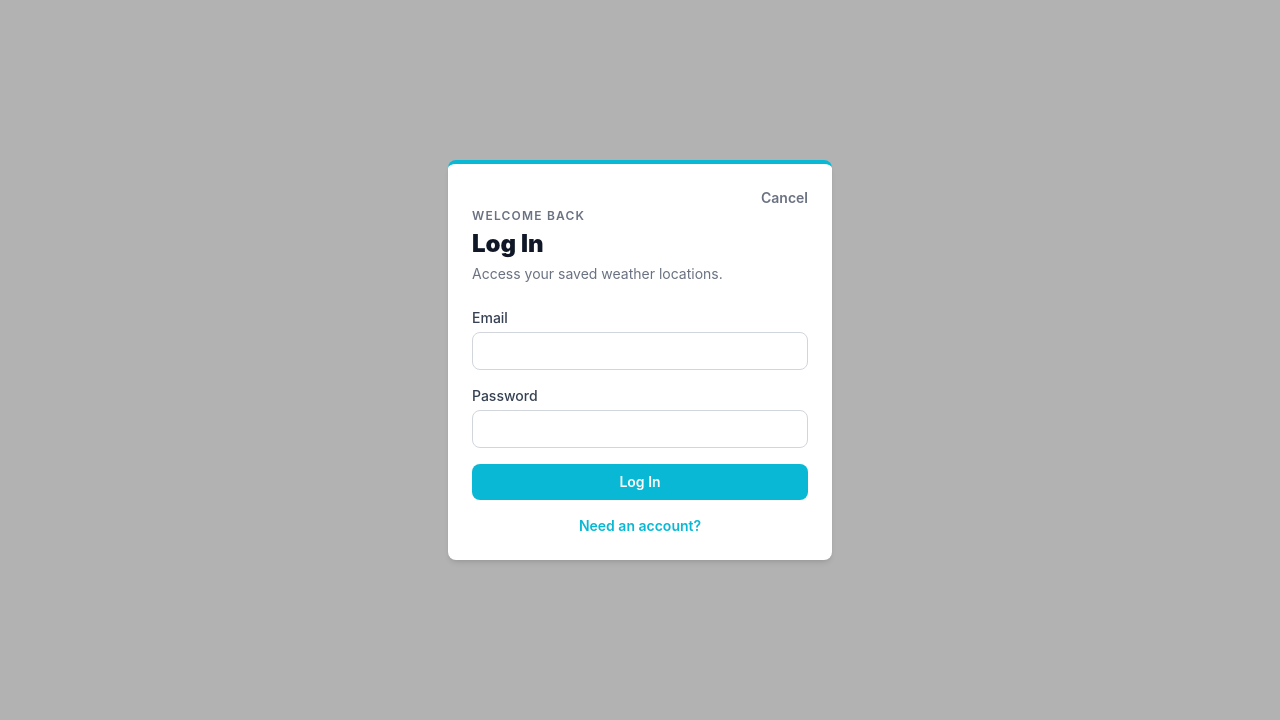
Scenario: AuthModal › shows error message when login fails
Step 1. Type "test@test.com" into the field labelled "Email" → coordinates (640, 351), box 472,332 -> 808,370
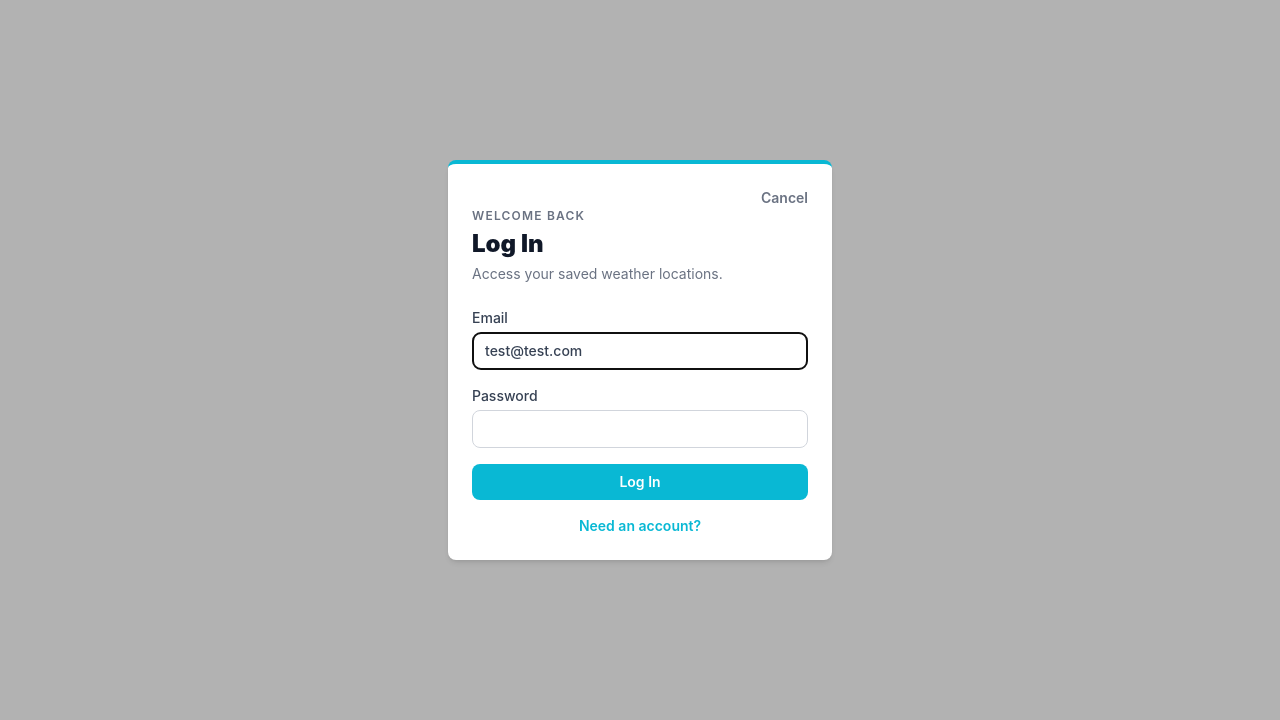
Step 2. Type "wrongpassword" into the password field labelled "Password" → coordinates (640, 429), box 472,410 -> 808,448
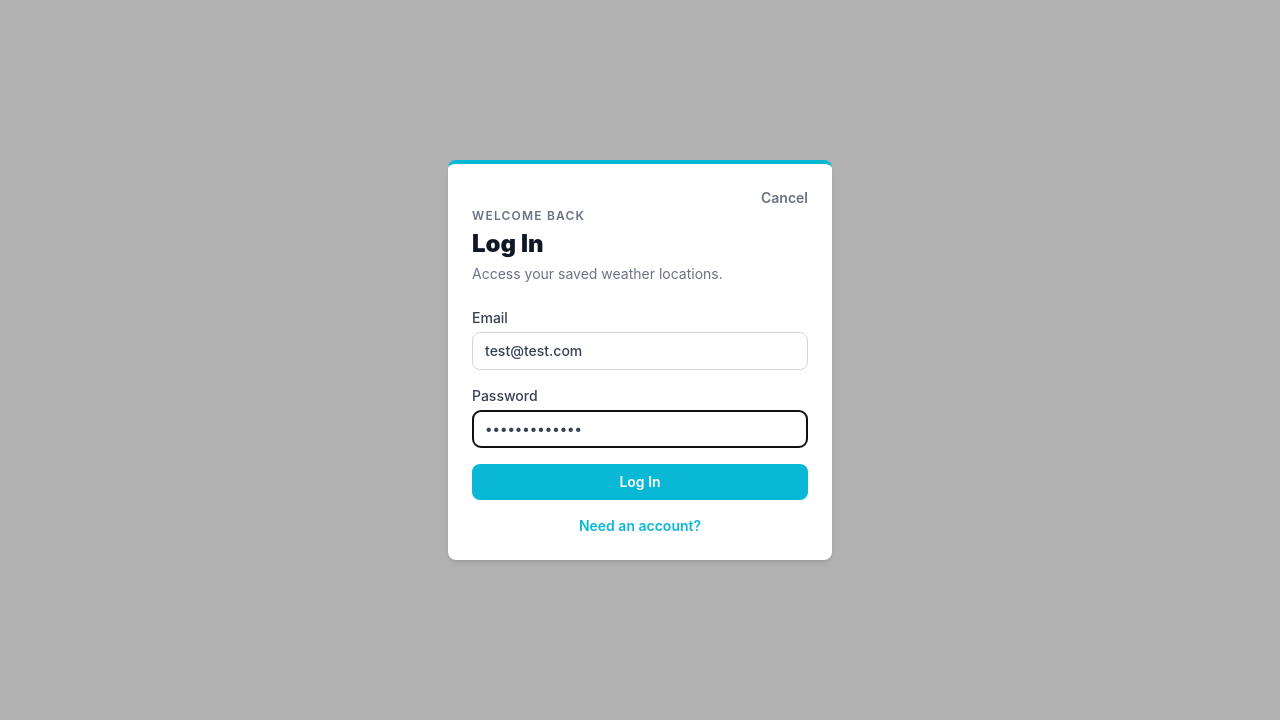
Step 3. Click the button "Log In" → coordinates (640, 482), box 472,464 -> 808,500
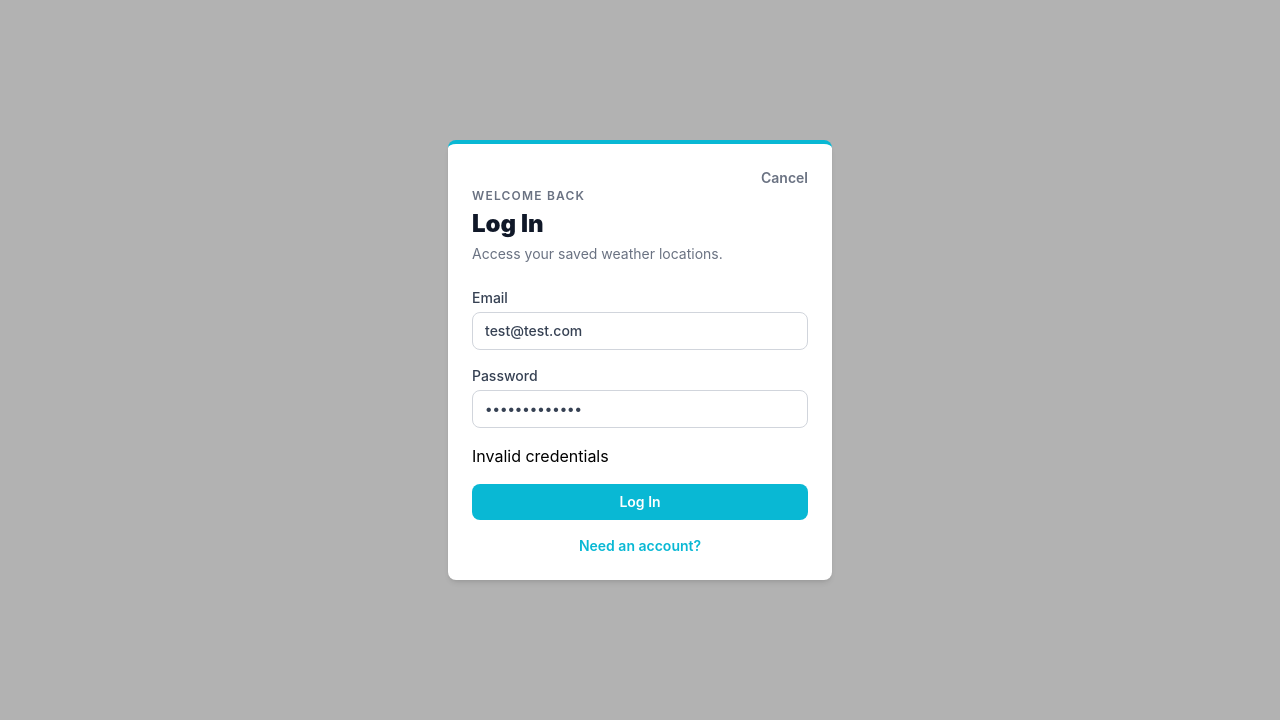
Now the text "Invalid credentials" is shown, box 472,446 -> 609,466
